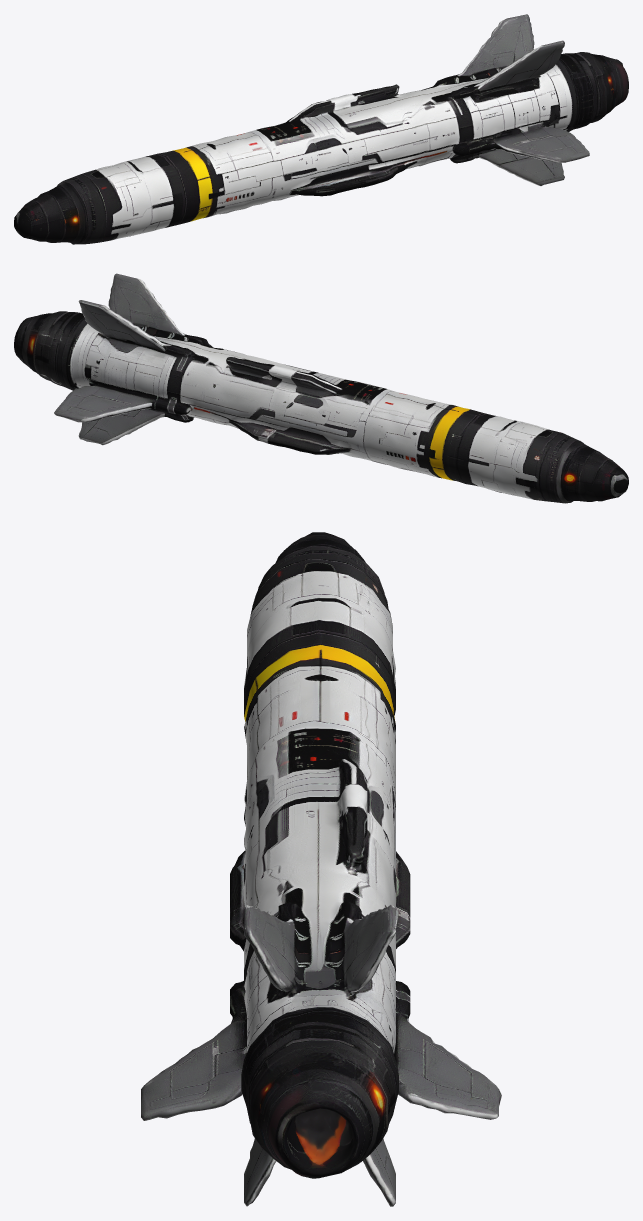
File: Meshy_AI_Silver_Comet_0610032645_texture.fbx
3 views of the same model, one above another, from view 1: azimuth 30°, elevation 25°; view 2: azimuth 150°, elevation 25°; view 3: azimuth 270°, elevation 25° (orthographic). The views are drawn at different scales.
Parts seen in each view (by area): view 1: Mesh_0; view 2: Mesh_0; view 3: Mesh_0.
Boxes of the visible parts, x1,y1,x2,y2 form: Mesh_0: [14, 14, 628, 244]; Mesh_0: [14, 273, 628, 503]; Mesh_0: [141, 532, 501, 1206].
Size of the model in its own units: 191 by 41.88 by 49.32.
1 material, 1 textured.
